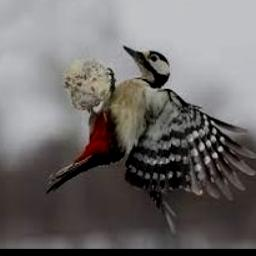Woodpecker: (45, 46, 256, 232)
